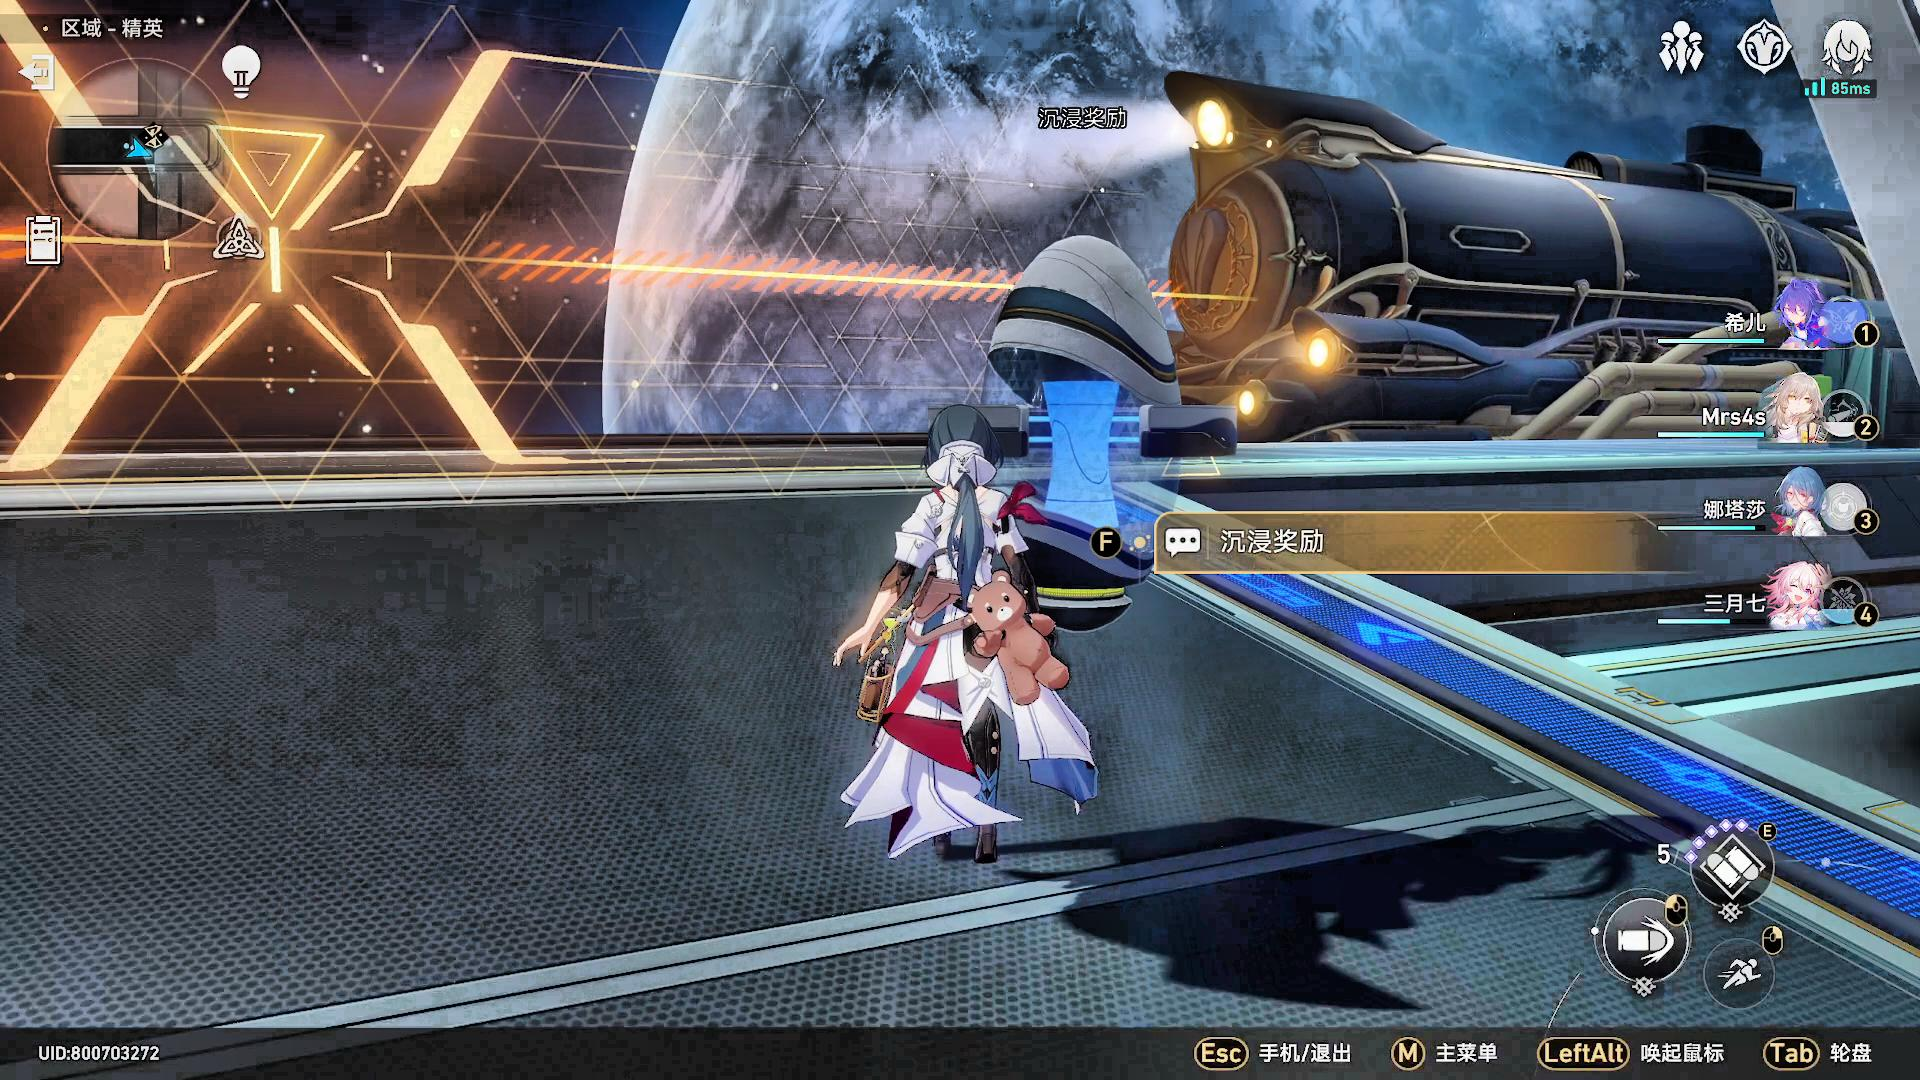Self: (814, 400, 1110, 872)
